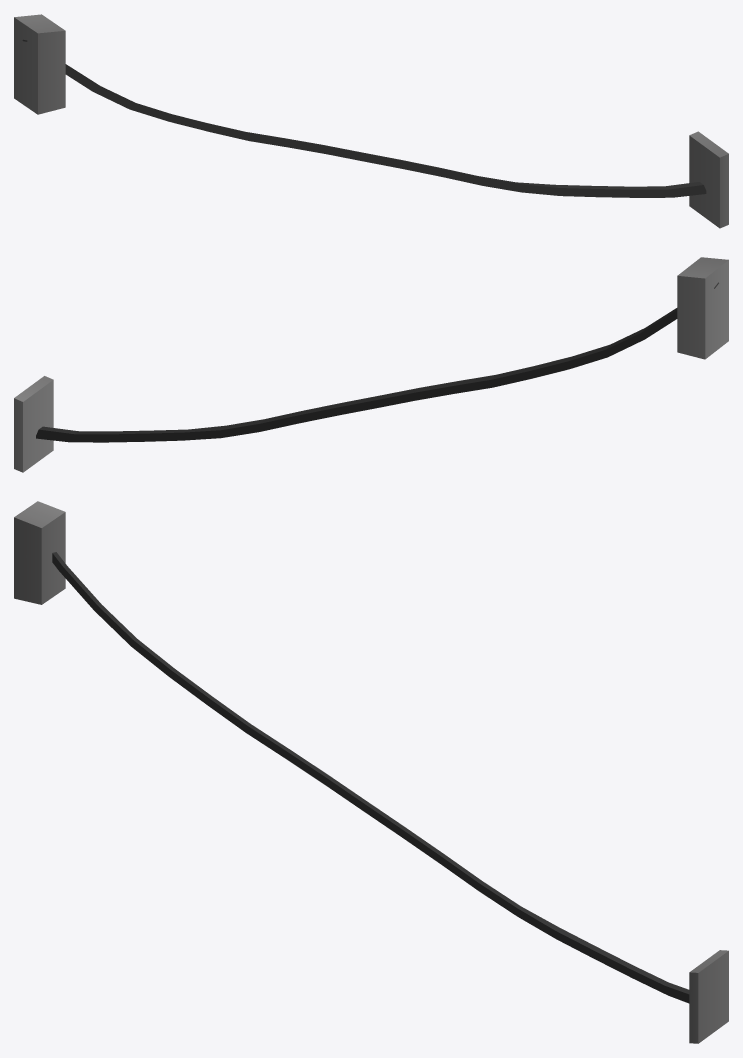
The model's file is B02_cable_4.fbx.
3 views of the same model, one above another, from view 1: azimuth 30°, elevation 25°; view 2: azimuth 150°, elevation 25°; view 3: azimuth 330°, elevation 25° (orthographic).
Visible parts, largest first — view 1: B02_cable_4; view 2: B02_cable_4; view 3: B02_cable_4.
Boxes of the visible parts, x1,y1,x2,y2 form: B02_cable_4: (14,14,728,228); B02_cable_4: (14,257,728,472); B02_cable_4: (14,501,728,1043).
Bounding box in the file's own units: 947 × 471 × 72.86.
